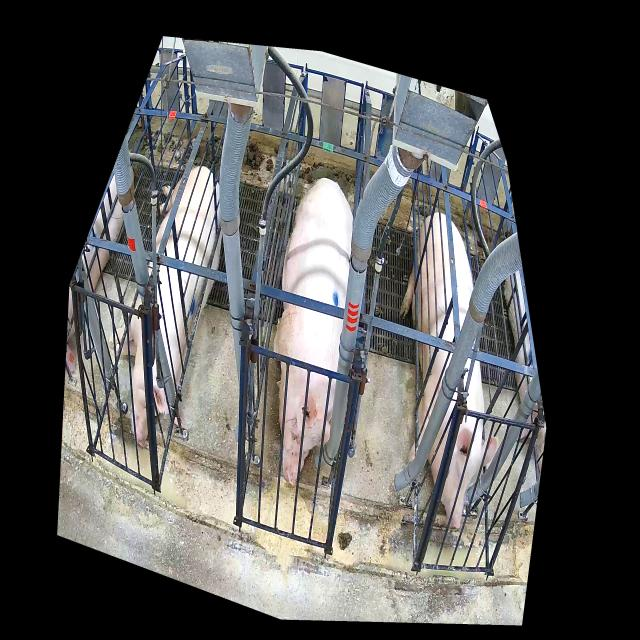pig: (108, 165, 222, 447), (400, 212, 498, 528), (273, 178, 353, 485)
